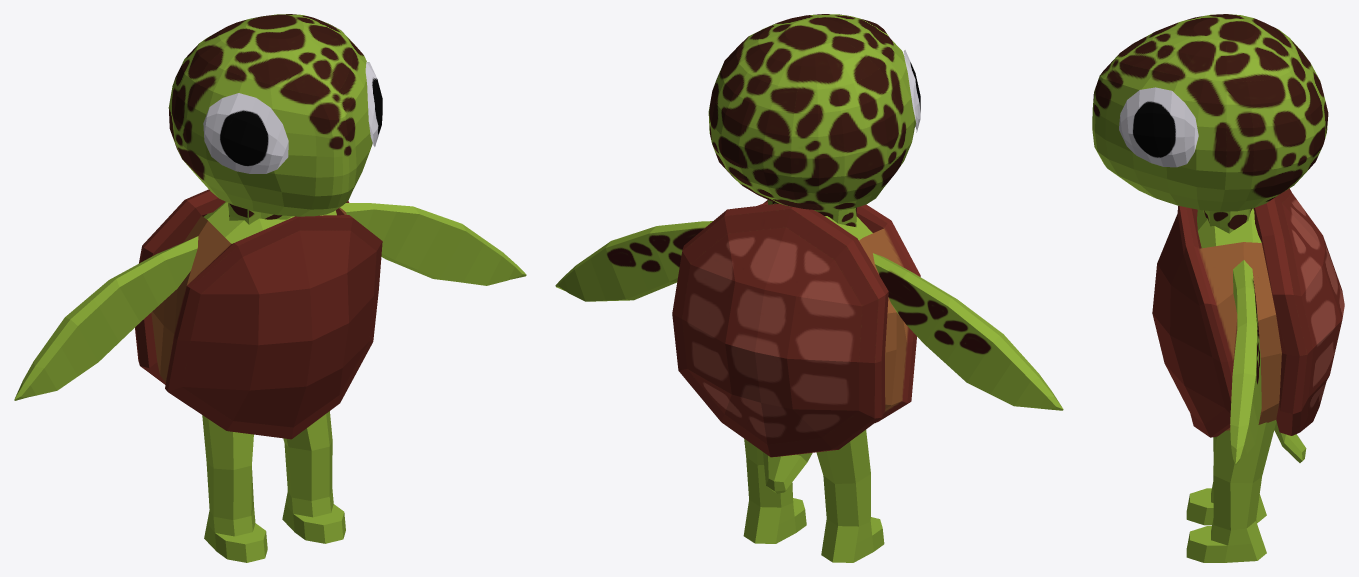
File: Tortuga_Corrigido01.fbx
3 views of the same model, side by side, from view 1: azimuth 30°, elevation 25°; view 2: azimuth 150°, elevation 25°; view 3: azimuth 270°, elevation 25° (orthographic).
Parts seen in each view (by area): view 1: Pernas.002; view 2: Pernas.002; view 3: Pernas.002.
Boxes of the visible parts, x1=… form: Pernas.002: x1=14, y1=14, x2=526, y2=562; Pernas.002: x1=555, y1=14, x2=1063, y2=562; Pernas.002: x1=1092, y1=14, x2=1344, y2=562.
Bounding box in the file's own units: 482 × 459 × 208.
